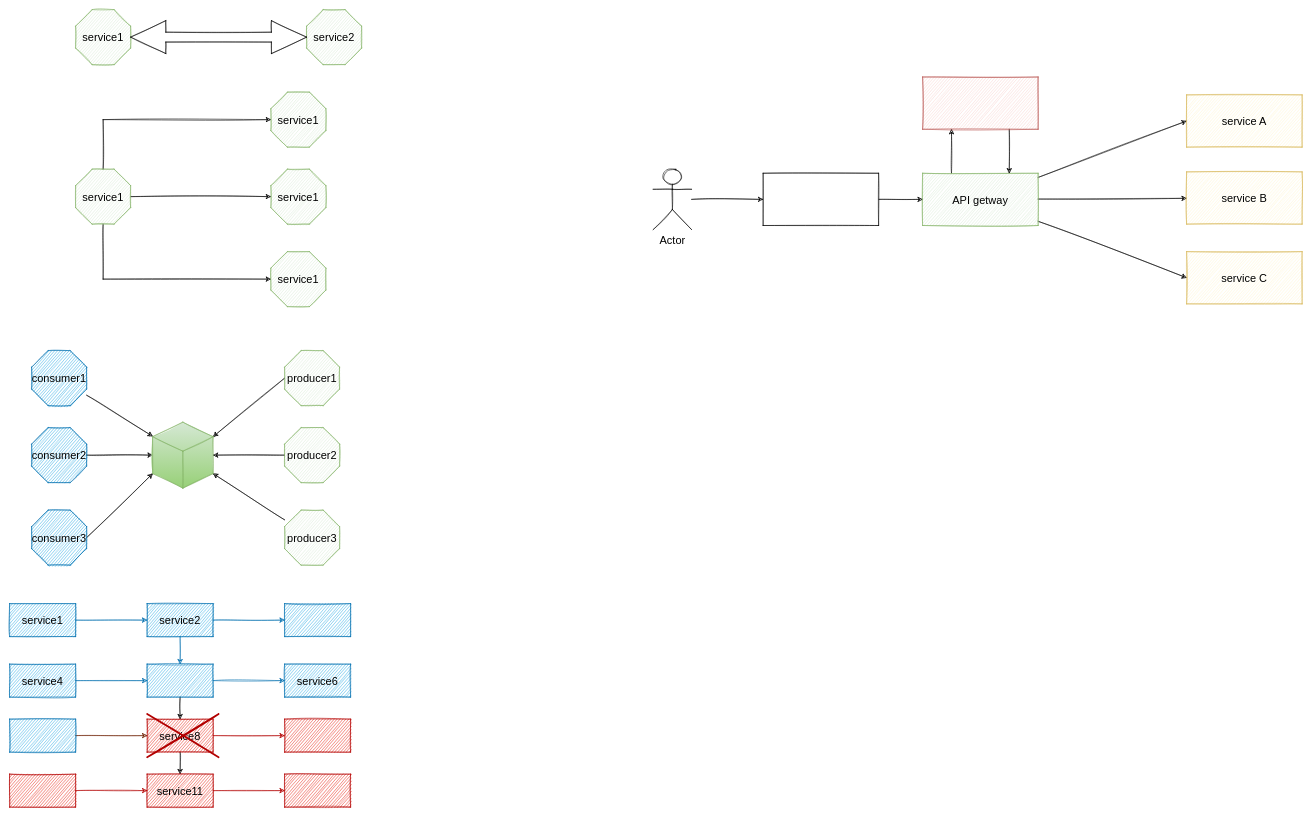
Some shapes in this 1312 by 817 pixel diagram are drawn without their labels. Each missing label, with the centre of its shape:
HTTP+JSON: the point at 218,37
Servcie discovery: the point at 980,102
service10: the point at 42,790
service12: the point at 317,790
service3: the point at 317,620
service5: the point at 180,680
service7: the point at 42,735
service9: the point at 317,735
浏览器: the point at 821,199
